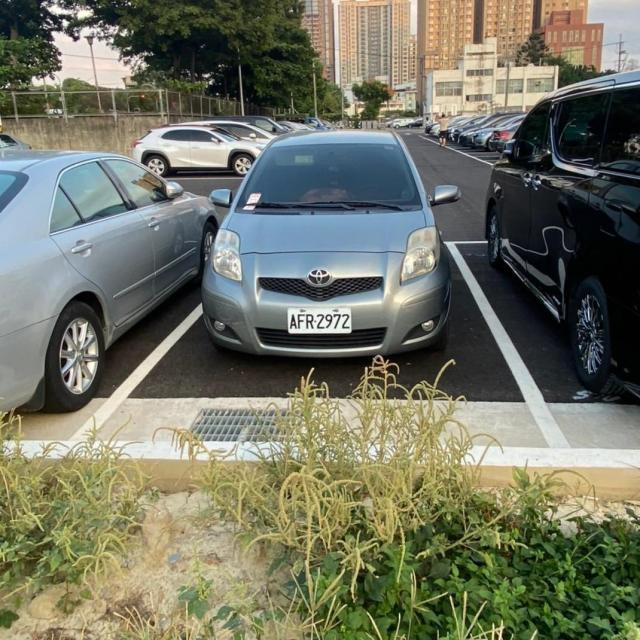W: (278, 303, 358, 339)
